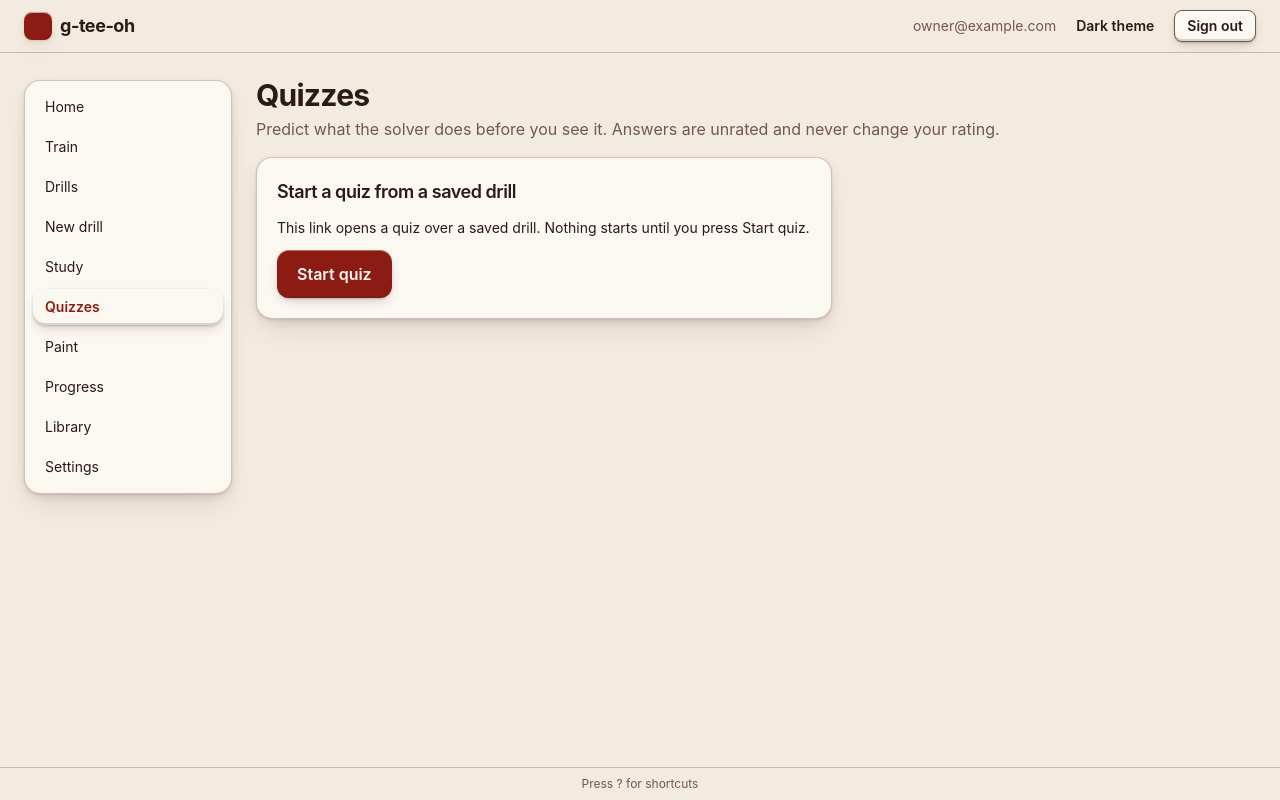
it: R3.16 /quiz answers and results › R3.16 Next reads the next prompt; Enter submits and N moves on
This screenshot has width=1280, height=800.
Click the button "Start quiz" at (334, 274), box [277,250,392,298]
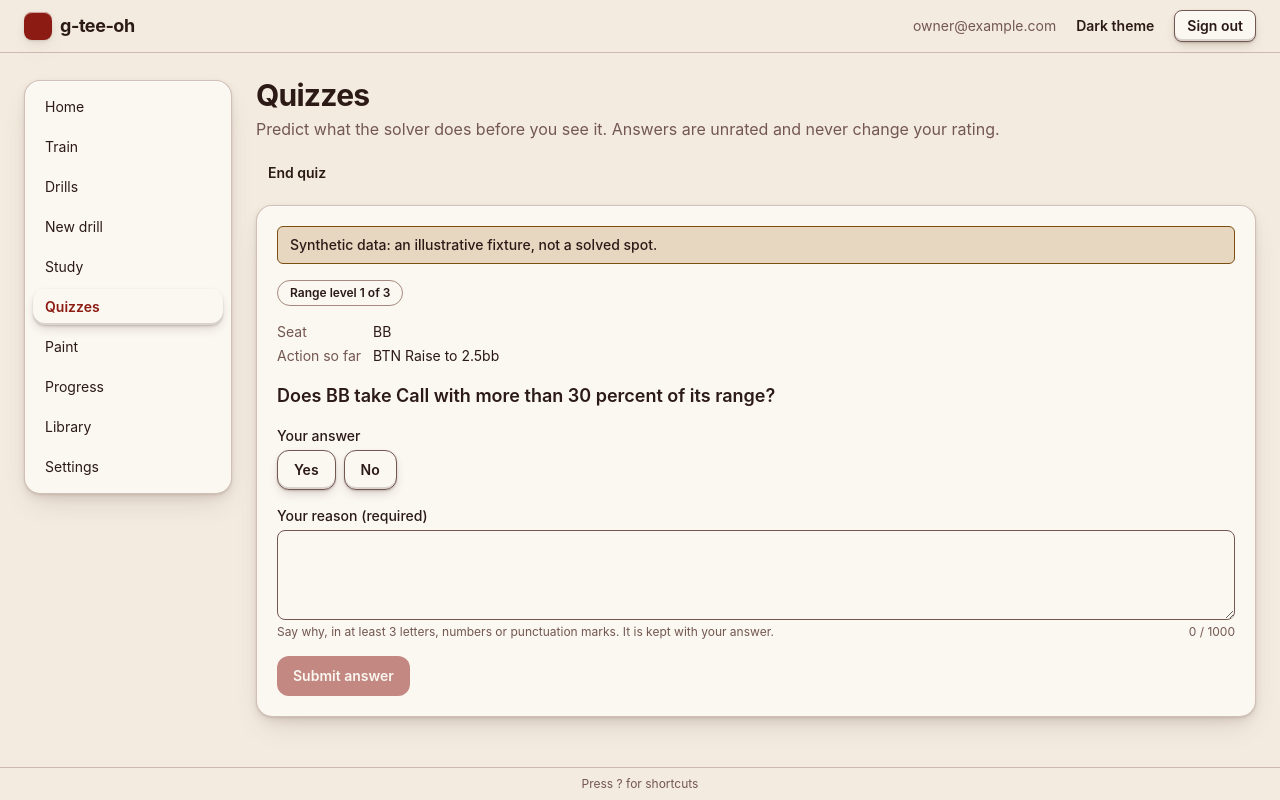
Type "Facing a small open, the price is good." into the text box labelled "Your reason (required)" at (756, 575), box [277,530,1235,620]
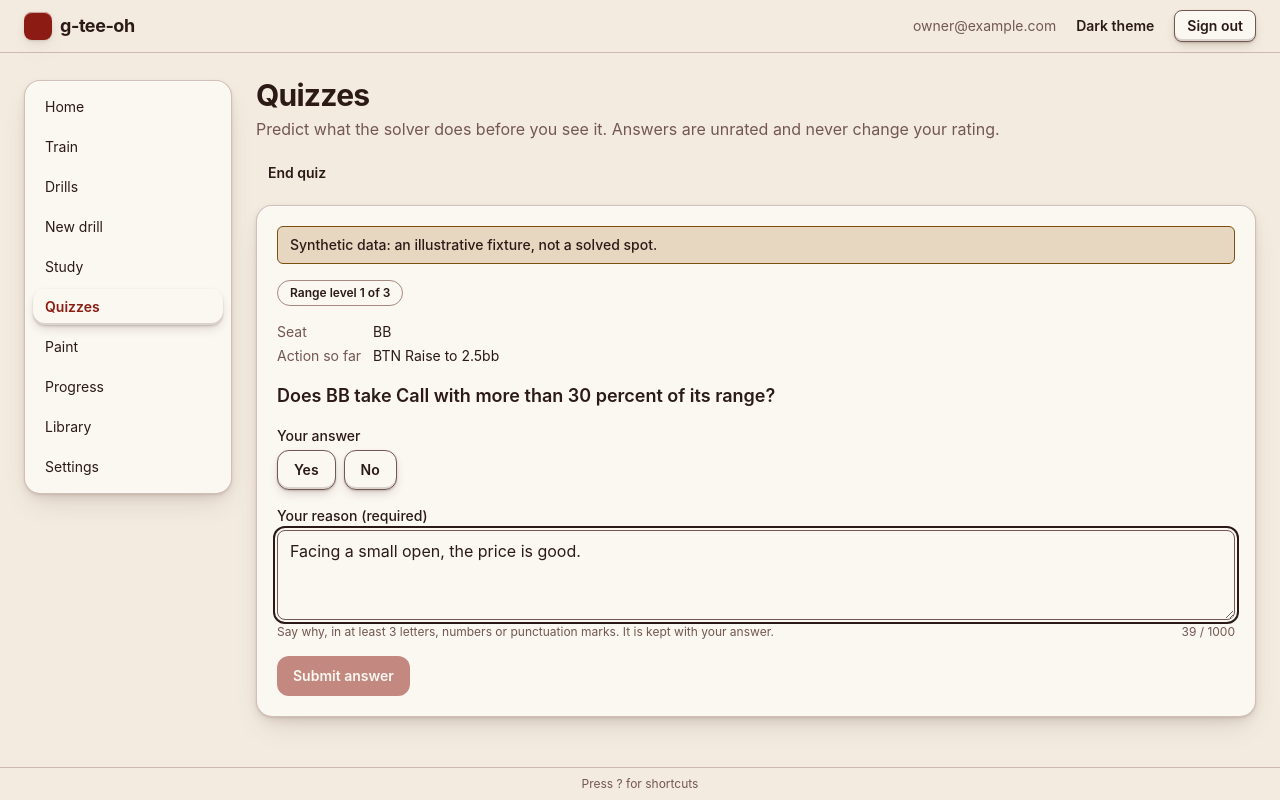
Click the button "No" at (370, 470), box [344,450,397,490]
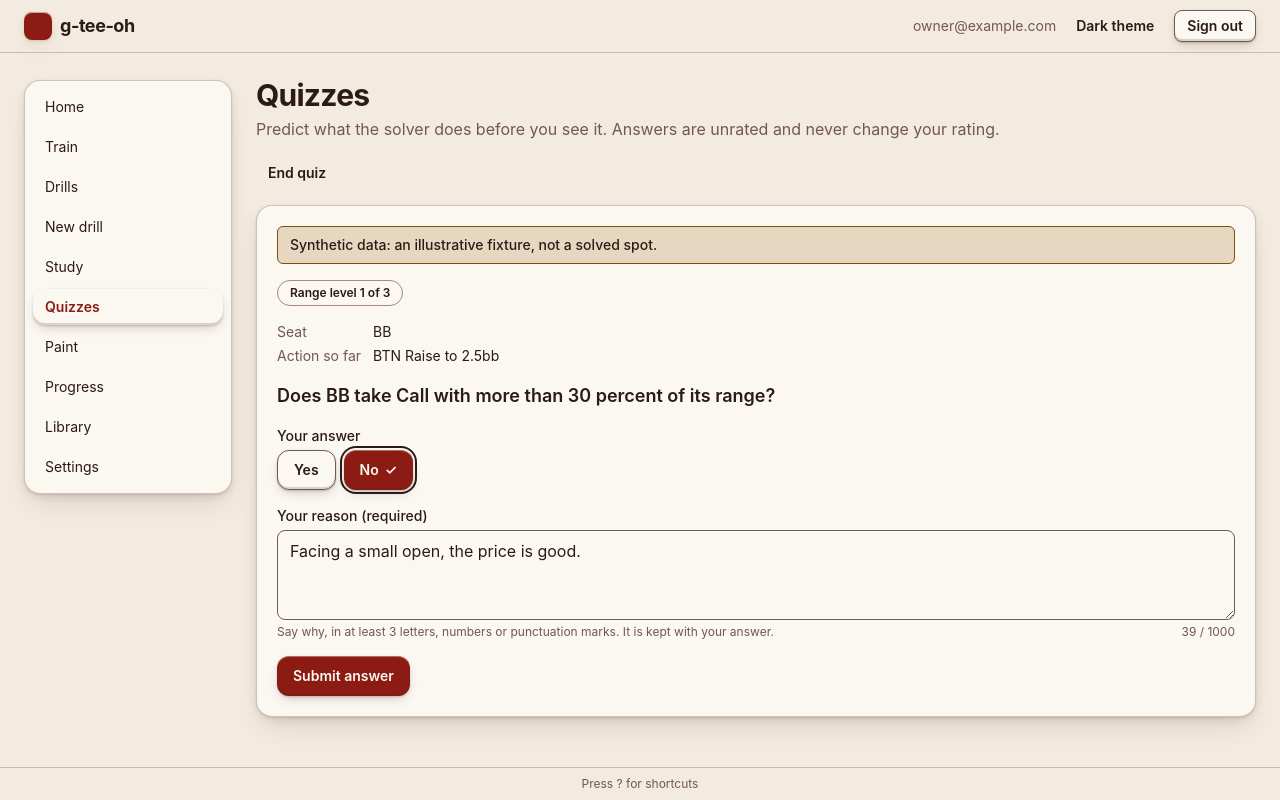
Press Enter
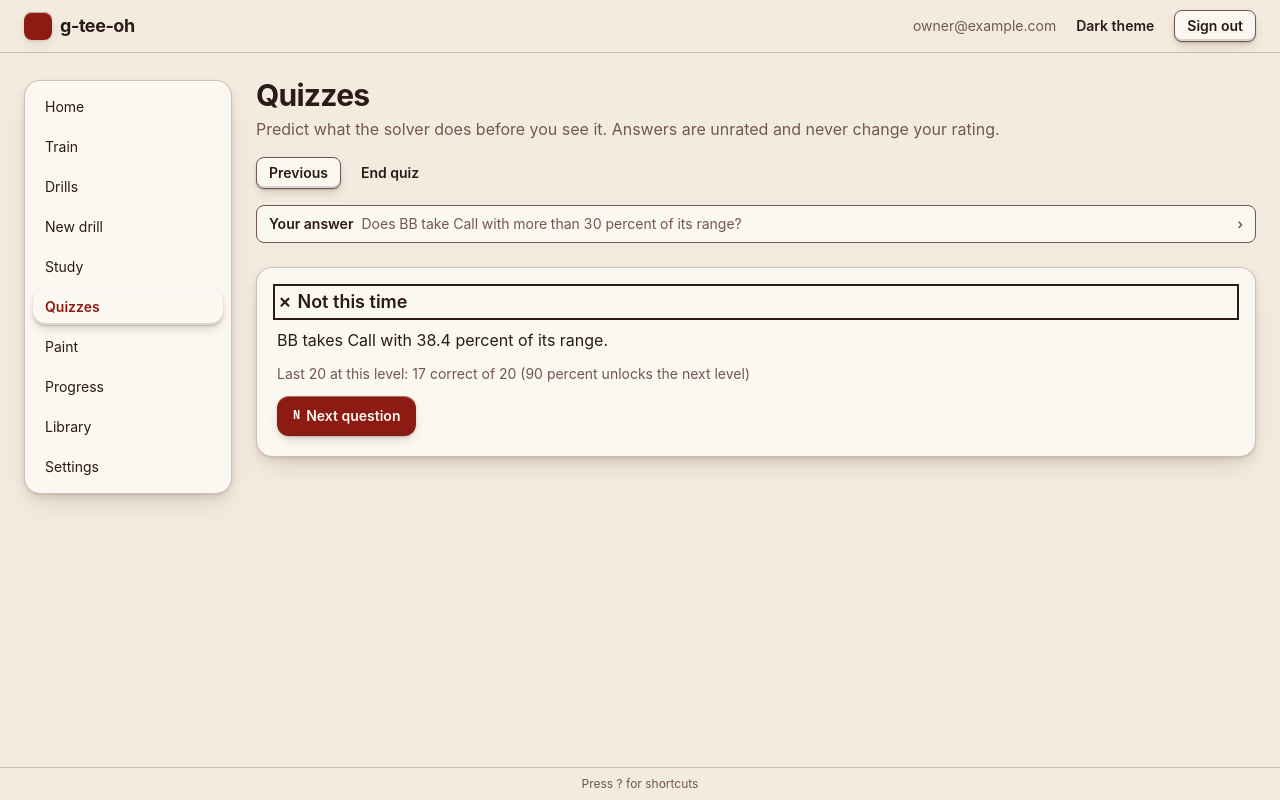
Check: the element with test id "prediction-result" is shown, box [256,267,1256,457]
Type keys "n"
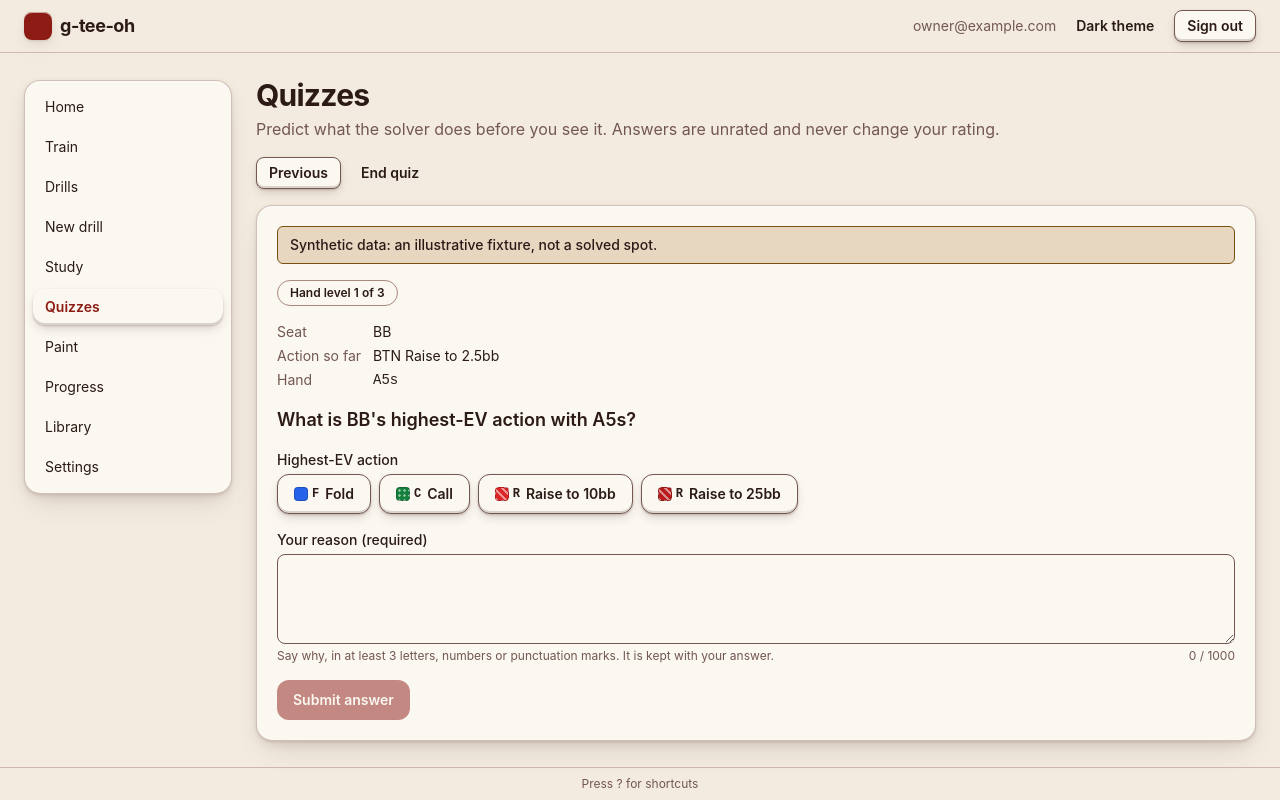
Check: the element with test id "prediction-result" is gone
